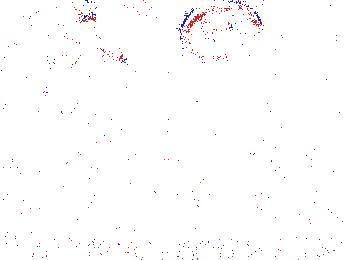moon jellyfish: (260, 91, 346, 195), (180, 1, 264, 65), (95, 1, 162, 70), (24, 33, 82, 94), (16, 7, 84, 51)
